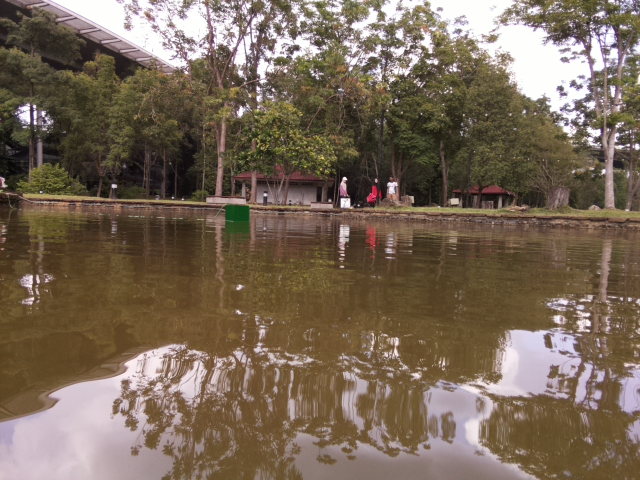obstacle: (224, 204, 250, 223)
